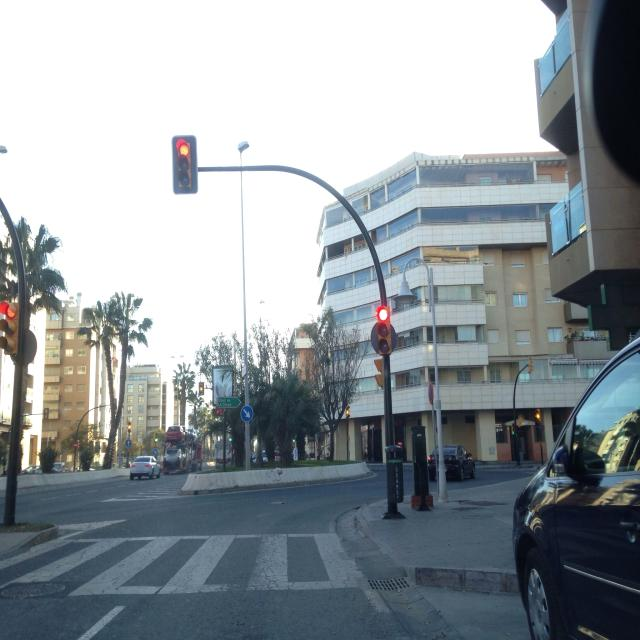car: (513, 300, 640, 640), (428, 443, 477, 482), (130, 455, 162, 480), (166, 426, 186, 444), (163, 450, 183, 467)
